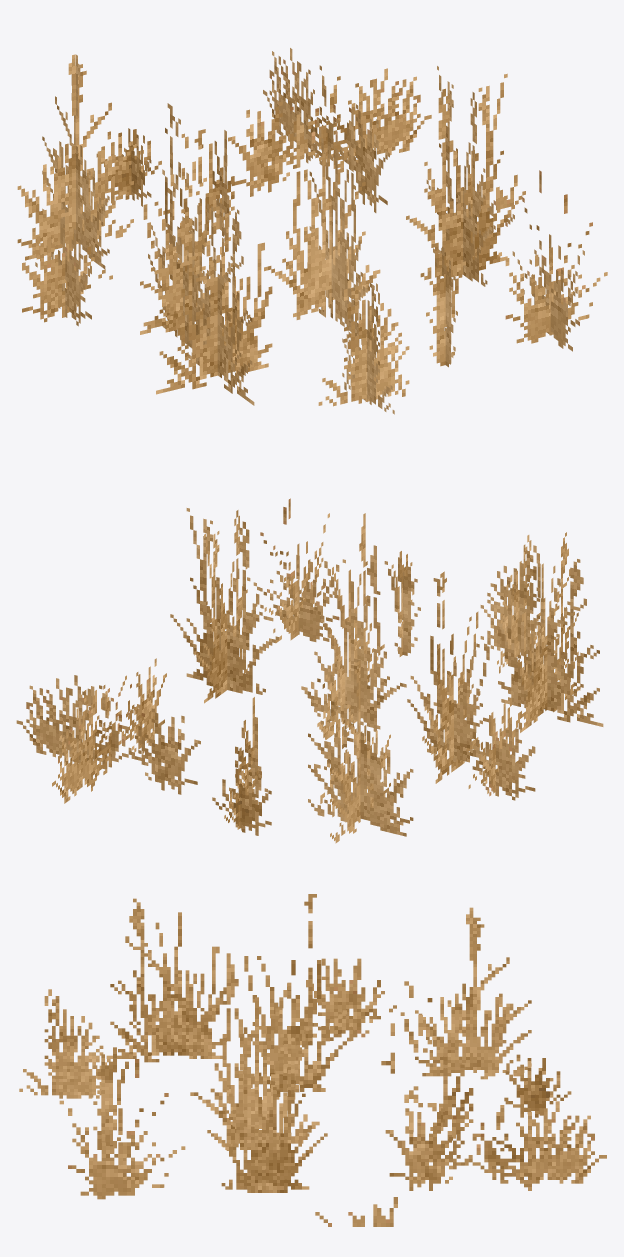
Rendered from dead_bushes.glb.
3 renders of one model, top to bottom at view 1: azimuth 30°, elevation 25°; view 2: azimuth 150°, elevation 25°; view 3: azimuth 270°, elevation 25°, orthographic. The views are drawn at different scales.
Visible parts, largest first — view 1: Bush 7, Bush 1, Bush 13, Bush 5, Bush 3, Bush 6, Bush 12, Bush 10, Bush 2, Bush 8, Bush 4, Bush 11 (+1 smaller); view 2: Bush 7, Bush 1, Bush 5, Bush 3, Bush 13, Bush 12, Bush 10, Bush 6, Bush 2, Bush 4, Bush 8, Bush 11 (+2 smaller); view 3: Bush 7, Bush 1, Bush 5, Bush 3, Bush 13, Bush 12, Bush 10, Bush 6, Bush 2, Bush 4, Bush 8, Bush 11 (+2 smaller).
Boxes of the visible parts, box(x1,y1,x2,y2) form: Bush 7: box(228, 48, 431, 212); Bush 1: box(156, 206, 272, 405); Bush 13: box(264, 109, 380, 331); Bush 5: box(406, 66, 525, 286); Bush 3: box(17, 54, 133, 269); Bush 6: box(318, 280, 409, 414); Bush 12: box(140, 103, 232, 347); Bush 10: box(498, 170, 607, 351); Bush 2: box(22, 219, 112, 326); Bush 8: box(426, 246, 465, 367); Bush 4: box(96, 128, 161, 206); Bush 11: box(205, 130, 234, 241); Bush 7: box(16, 658, 200, 803); Bush 1: box(498, 532, 603, 732); Bush 5: box(170, 508, 278, 703); Bush 3: box(308, 648, 413, 843); Bush 13: box(301, 513, 406, 741); Bush 12: box(407, 571, 489, 783); Bush 10: box(247, 498, 345, 642); Bush 6: box(480, 535, 559, 673); Bush 2: box(453, 698, 535, 800); Bush 4: box(212, 757, 271, 835); Bush 8: box(384, 551, 420, 656); Bush 11: box(235, 697, 267, 802); Bush 7: box(385, 1097, 606, 1190); Bush 1: box(106, 898, 226, 1062); Bush 5: box(207, 1027, 327, 1192); Bush 3: box(415, 907, 531, 1079); Bush 13: box(190, 953, 319, 1150); Bush 12: box(243, 894, 351, 1091); Bush 10: box(59, 1059, 185, 1199); Bush 6: box(19, 989, 110, 1098); Bush 2: box(306, 958, 404, 1040); Bush 4: box(505, 1054, 571, 1117); Bush 8: box(89, 1047, 132, 1148); Bush 11: box(430, 1049, 473, 1142).
Bounding box in the file's own units: 2.21 × 1.12 × 2.55.
Materials: 1 (1 with a texture image).
